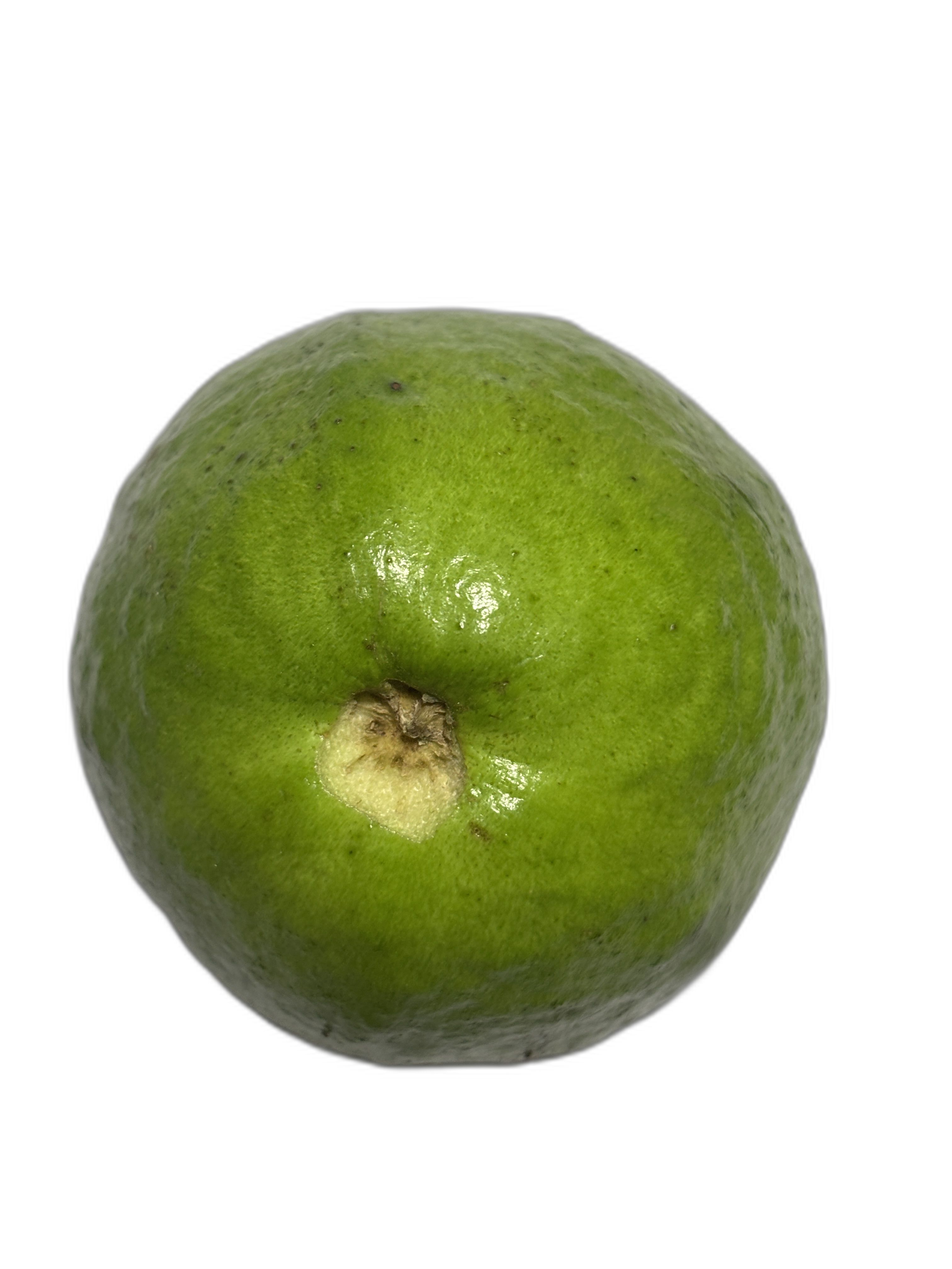guava: (134, 0, 746, 1072)
